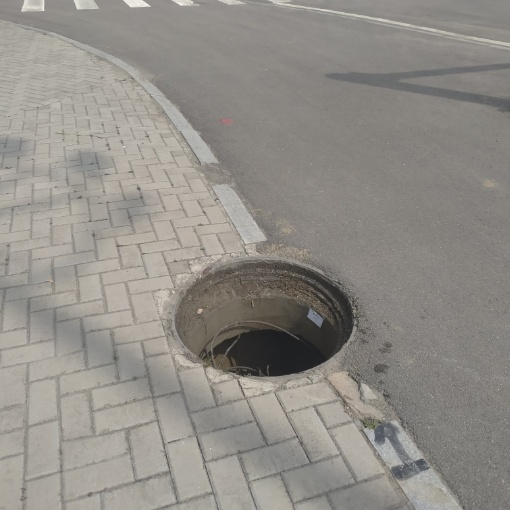lose: (170, 255, 359, 379)
